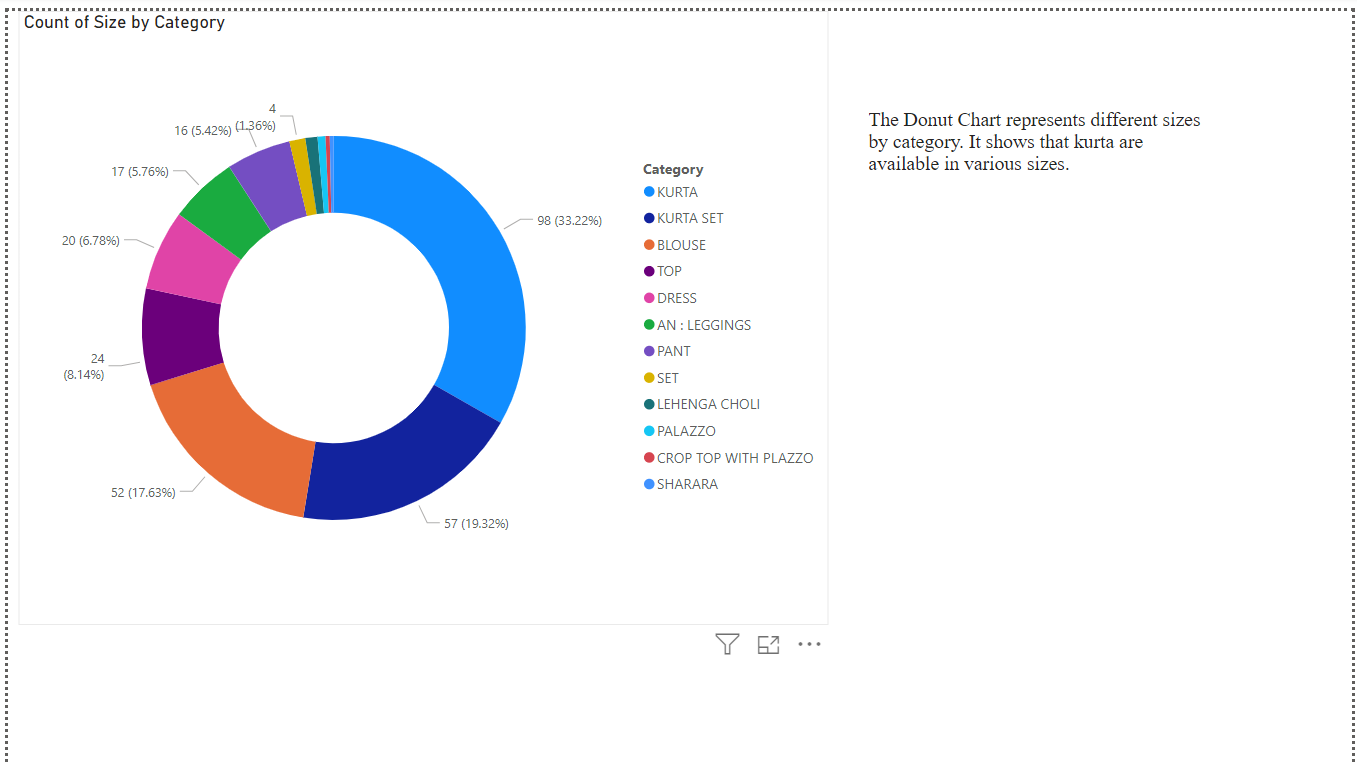

What the dashboard file says about the page in this screenshot:
{"tool":"powerbi","page":{"name":"s.Size by Cateogry","canvas":[1280,720],"ordinal":5},"visuals":[{"type":"donutChart","fields":{"Category":["Sale Report.Category"],"Y":["CountNonNull(Sale Report.Size)"]},"box":[9.6,0,771.9,583.7],"z":0},{"type":"textbox","box":[814.3,87.1,328.6,105.7],"z":1}]}

Visuals, with their boxes in screenshot pixels (x1, y1, x2, y2), scaled from the page's 1280x720 canvas onto the 1357x766 screenshot:
donutChart - Sale Report.Category x CountNonNull(Sale Report.Size): x1=10, y1=0, x2=829, y2=621
textbox: x1=863, y1=93, x2=1212, y2=205
